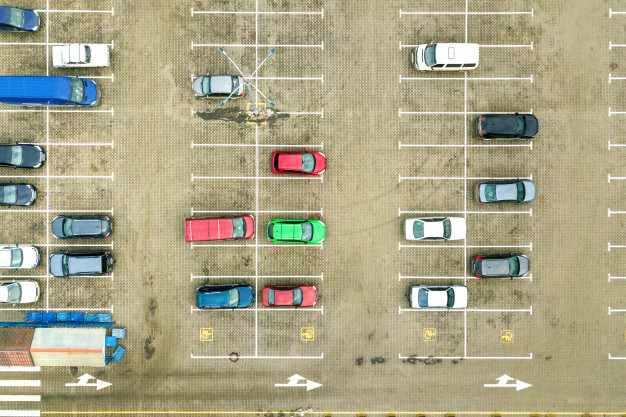car: (1, 71, 105, 108), (409, 40, 480, 75), (183, 213, 257, 245), (399, 212, 470, 244), (47, 249, 117, 280), (470, 177, 539, 208), (469, 112, 542, 141), (406, 280, 470, 312), (265, 146, 329, 178), (193, 280, 255, 311), (263, 217, 329, 246), (48, 213, 114, 241), (473, 251, 533, 281), (50, 41, 114, 68), (258, 282, 321, 309), (1, 138, 49, 172), (188, 74, 249, 100), (1, 278, 44, 307), (1, 241, 42, 271), (1, 5, 43, 34), (1, 180, 39, 209)
